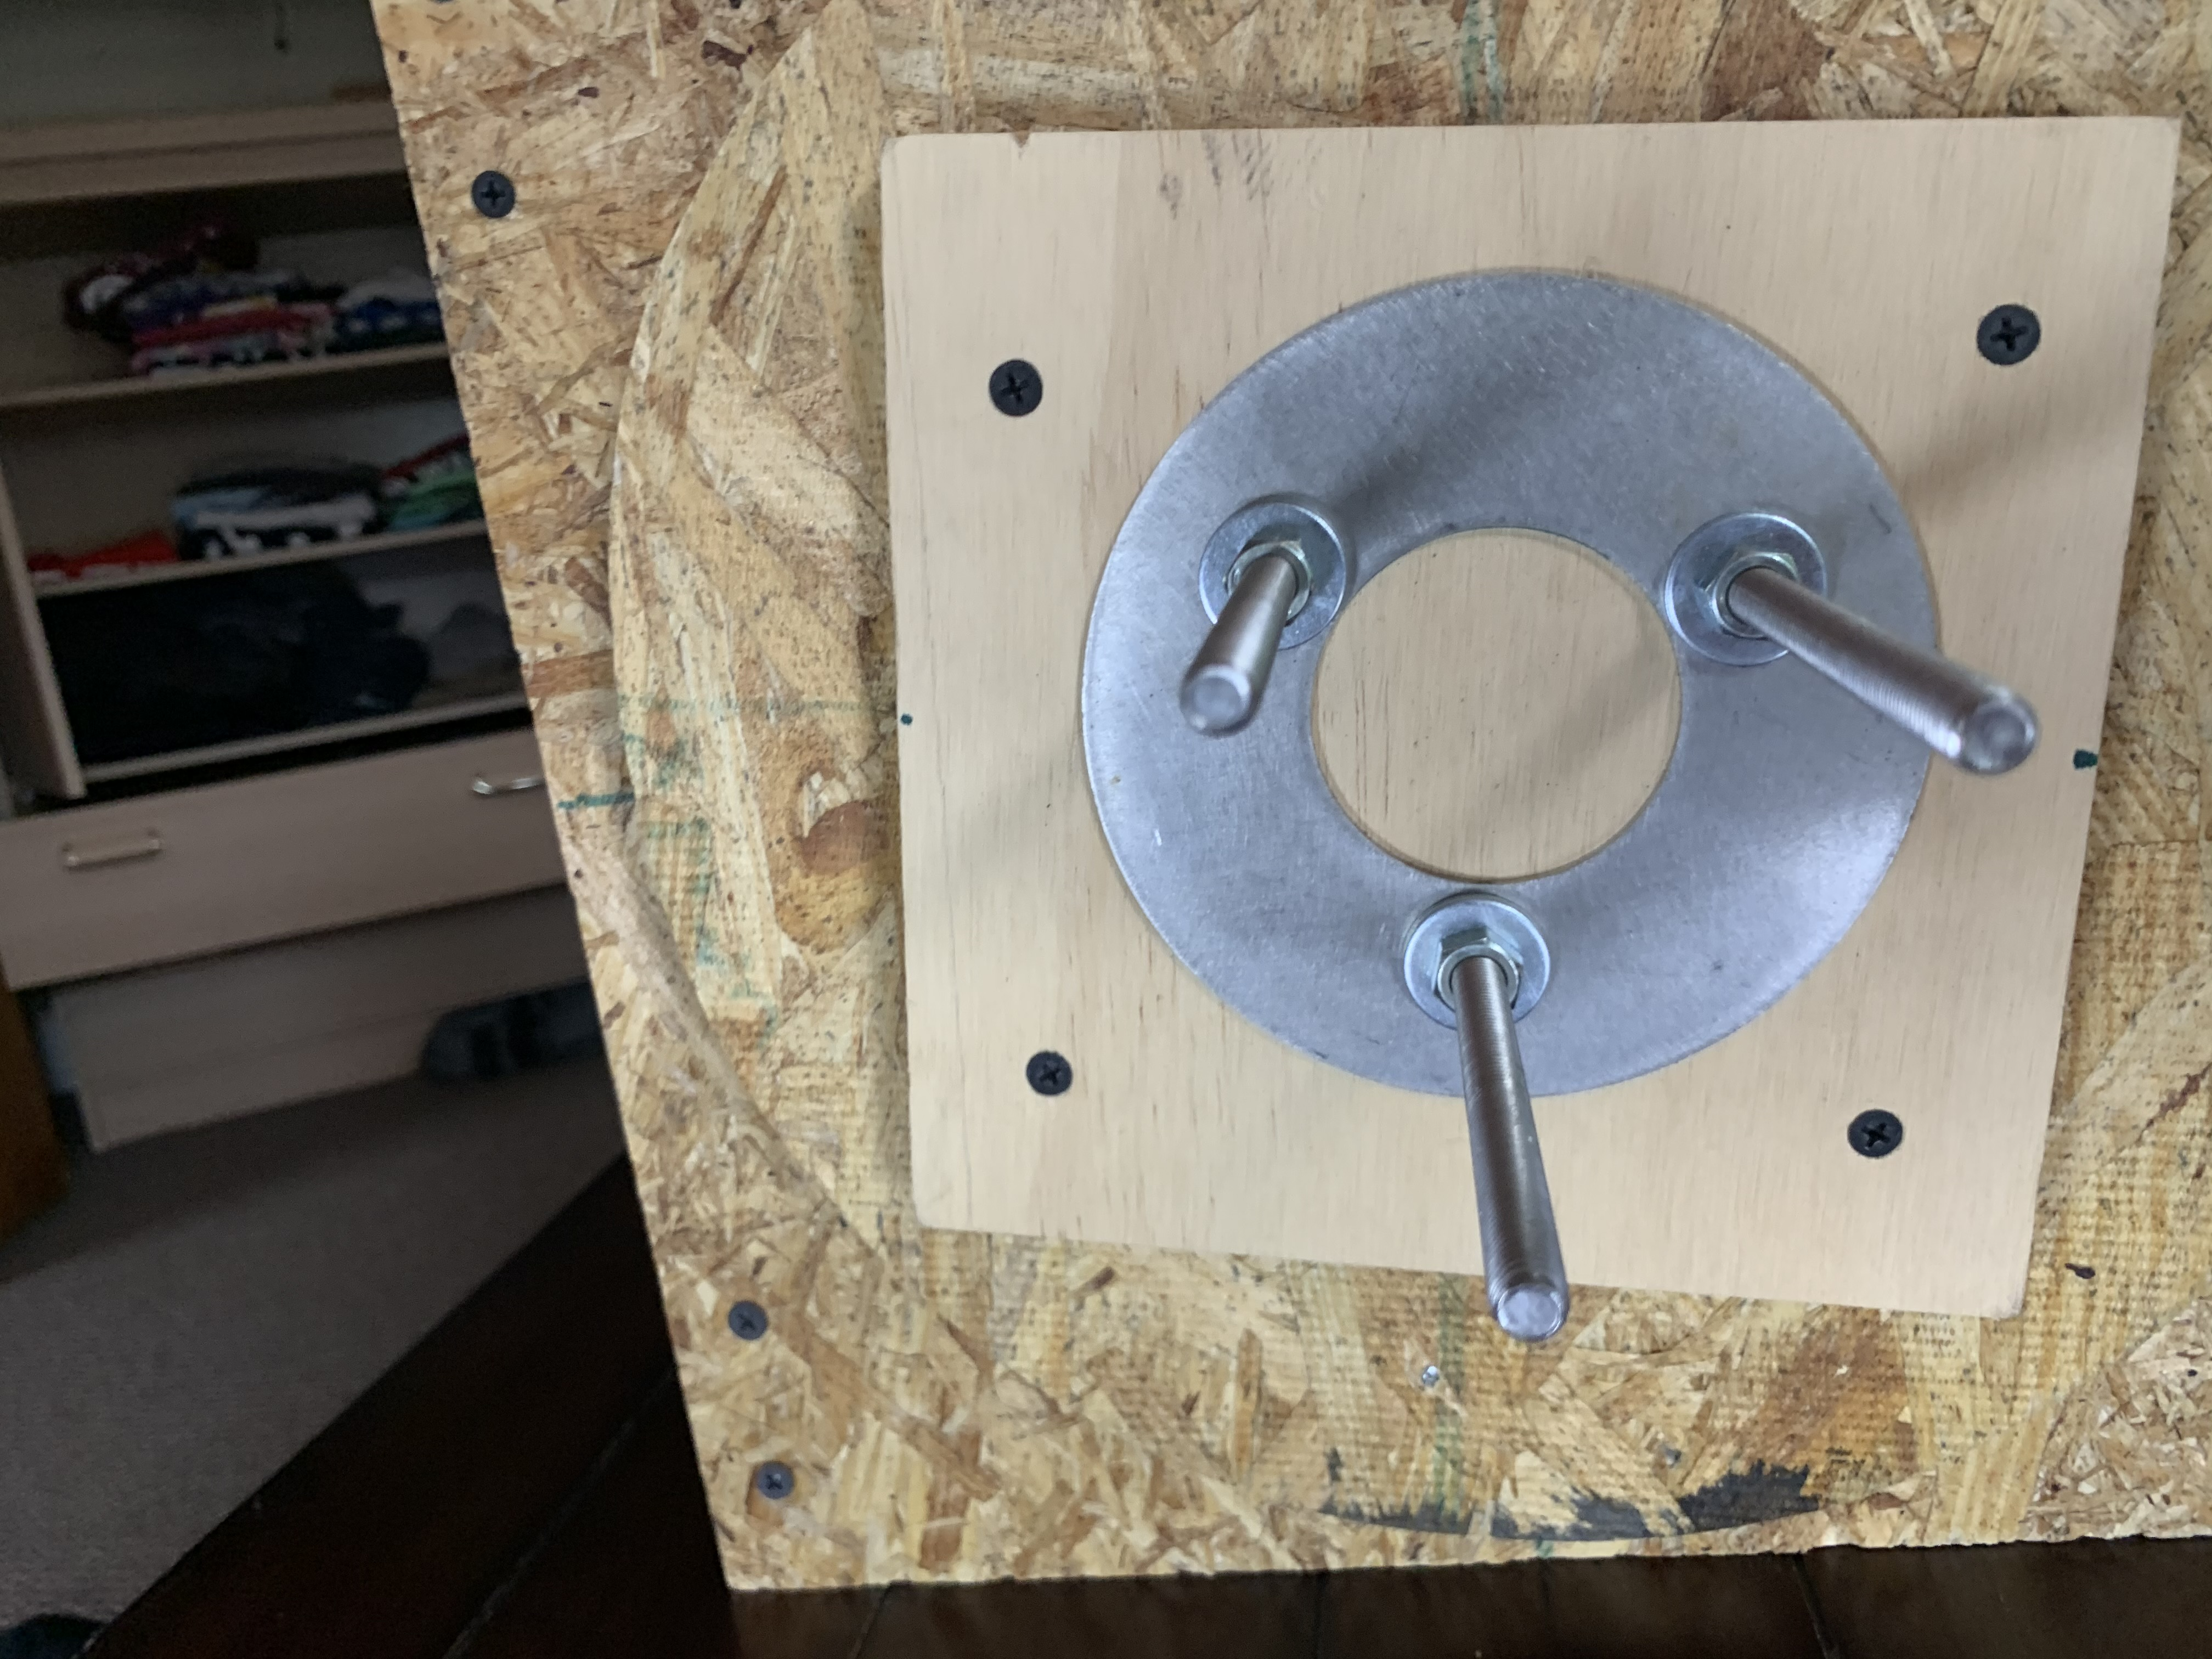bolt: (1662, 509, 1829, 671), (1197, 497, 1352, 650), (1399, 890, 1550, 1028)
